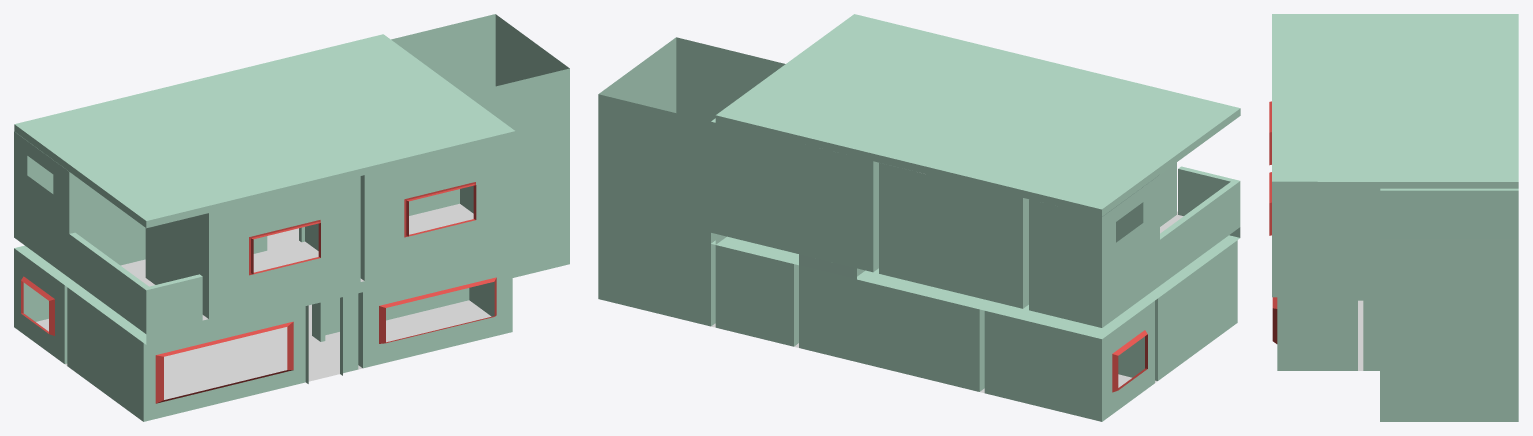
File: Casa.fbx
3 renders of one model, left to right at view 1: azimuth 30°, elevation 25°; view 2: azimuth 150°, elevation 25°; view 3: azimuth 270°, elevation 25°, orthographic. The views are drawn at different scales.
Visible parts, largest first — view 1: Piso2, Techo, Piso1; view 2: Piso2, Techo, Piso1; view 3: Techo, Piso2, Piso1.
Part boxes in pixels (x1,y1,x2,y2): Piso2: (14, 14, 569, 344); Techo: (14, 34, 515, 228); Piso1: (14, 185, 569, 421); Piso2: (598, 37, 1240, 338); Techo: (715, 14, 1240, 216); Piso1: (598, 216, 1237, 421); Techo: (1272, 14, 1518, 188); Piso2: (1269, 101, 1518, 348); Piso1: (1272, 297, 1518, 421).
Size of the model in its own units: 14.9 by 5.95 by 7.12.
